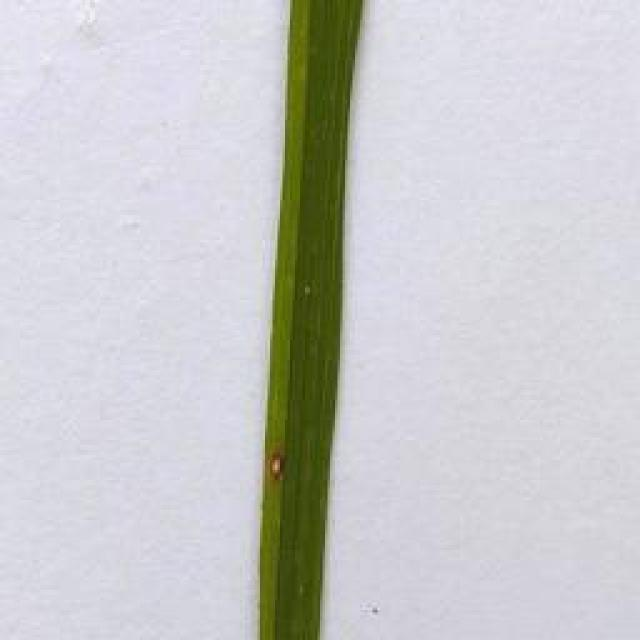Unhealthy: (269, 449, 284, 480)
